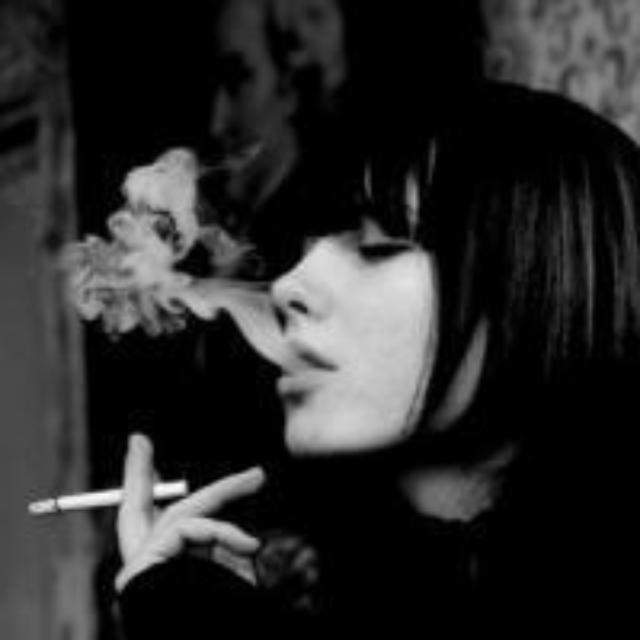Smoking: (20, 478, 188, 520)
